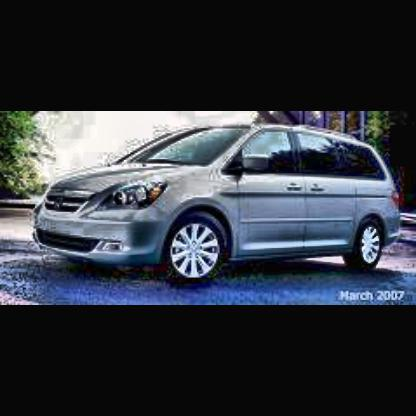Honda Odyssey Minivan 2007: (38, 114, 407, 284)
